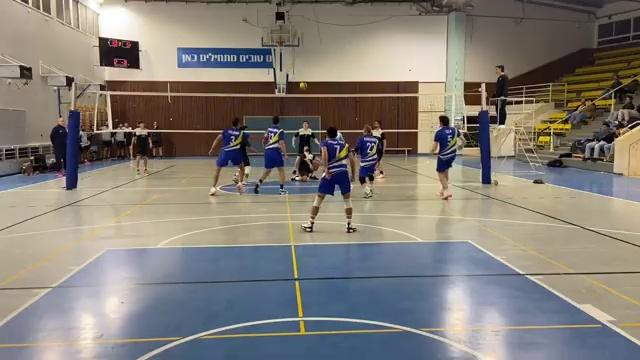ball: (299, 82, 307, 92)
